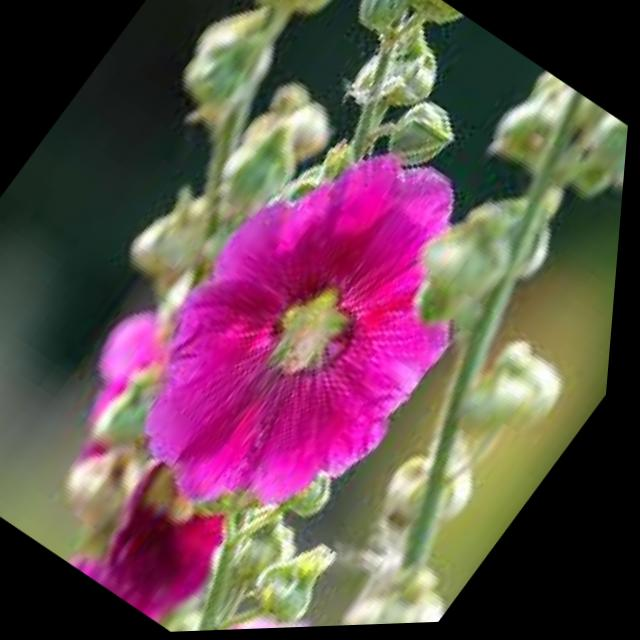Flower: (85, 99, 535, 567)
